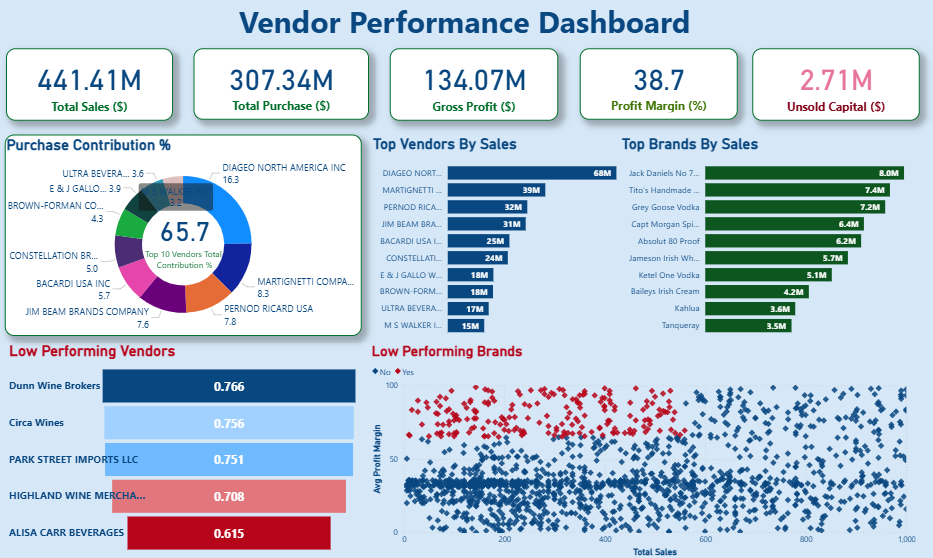

What the dashboard file says about the page in this screenshot:
{"tool":"powerbi","page":{"name":"Page 1","canvas":[1500,900],"ordinal":0},"visuals":[{"type":"card","fields":{"Values":["Sum(vendor_sales_summary.TotalPurchaseDollars)"]},"box":[315.8,82.4,280.9,114.6],"z":0},{"type":"card","fields":{"Values":["Sum(vendor_sales_summary.TotalSalesDollars)"]},"box":[16.8,81,266.9,116],"z":1000},{"type":"card","fields":{"Values":["Sum(vendor_sales_summary.GrossProfit)"]},"box":[630.2,81,269.7,116],"z":2000},{"type":"card","fields":{"Values":["Avg(vendor_sales_summary.ProfitMargin)"]},"box":[934.8,82.4,252.9,114.6],"z":3000},{"type":"card","fields":{"Values":["Sum(vendor_sales_summary.UnsoldCapital)"]},"box":[1210.1,81,268.3,116],"z":4000},{"type":"textbox","box":[0,0,1500,83],"z":5000},{"type":"donutChart","title":"Purchase Contribution % ","fields":{"Category":["PurchaseContribution.VendorName"],"Y":["Sum(PurchaseContribution.PurchaseContribution%)"]},"box":[14.5,219.4,571,322.6],"z":6000},{"type":"card","fields":{"Values":["Sum(PurchaseContribution.PurchaseContribution%)"]},"box":[207.9,262.9,188,233.9],"z":7000},{"type":"barChart","title":"Top Vendors By Sales","fields":{"Category":["vendor_sales_summary.VendorName"],"Y":["Sum(vendor_sales_summary.TotalSalesDollars)"]},"box":[597.3,219.2,447.9,332.9],"z":8000},{"type":"barChart","title":"Top Brands By Sales","fields":{"Category":["vendor_sales_summary.Description"],"Y":["Sum(vendor_sales_summary.TotalSalesDollars)"]},"box":[995.9,219.2,504.1,332.9],"z":9000},{"type":"funnel","title":"Low Performing Vendors","fields":{"Category":["LowTurnoverVendor.VendorName"],"Y":["Avg(LowTurnoverVendor.AvgStockTurnOver)"]},"box":[16.1,551.6,569.4,348.4],"z":10000},{"type":"scatterChart","title":"Low Performing Brands","fields":{"X":["Sum(BrandPerformance.TotalSales)"],"Y":["Sum(BrandPerformance.AvgProfitMargin)"],"Series":["BrandPerformance.TargetBrand"],"Category":["BrandPerformance.Description"]},"box":[596.8,551.6,880.6,348.4],"z":11000}]}

Visuals, with their boxes in screenshot pixels (x1, y1, x2, y2), scaled from the page's 1500x900 canvas onto the 933x558 screenshot:
card - Sum(vendor_sales_summary.TotalPurchaseDollars): <bbox>196, 51, 371, 122</bbox>
card - Sum(vendor_sales_summary.TotalSalesDollars): <bbox>10, 50, 176, 122</bbox>
card - Sum(vendor_sales_summary.GrossProfit): <bbox>392, 50, 560, 122</bbox>
card - Avg(vendor_sales_summary.ProfitMargin): <bbox>581, 51, 739, 122</bbox>
card - Sum(vendor_sales_summary.UnsoldCapital): <bbox>753, 50, 920, 122</bbox>
textbox: <bbox>0, 0, 932, 51</bbox>
"Purchase Contribution % " donutChart: <bbox>9, 136, 364, 336</bbox>
card - Sum(PurchaseContribution.PurchaseContribution%): <bbox>129, 163, 246, 308</bbox>
"Top Vendors By Sales" barChart: <bbox>372, 136, 650, 342</bbox>
"Top Brands By Sales" barChart: <bbox>619, 136, 932, 342</bbox>
"Low Performing Vendors" funnel: <bbox>10, 342, 364, 557</bbox>
"Low Performing Brands" scatterChart: <bbox>371, 342, 919, 557</bbox>
